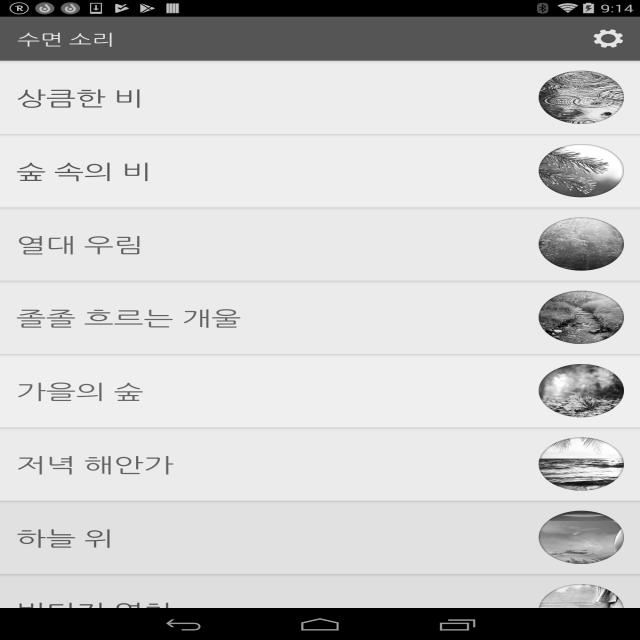ImageButton: (584, 22, 630, 52)
ImageView: (525, 214, 629, 274), (536, 144, 624, 201), (525, 294, 624, 343), (534, 70, 614, 130), (526, 510, 622, 559), (541, 369, 624, 422), (533, 437, 617, 488)
TextView: (14, 298, 260, 337), (11, 448, 172, 482), (11, 520, 144, 556), (11, 228, 151, 262), (17, 83, 145, 116), (13, 378, 154, 406), (18, 26, 116, 51)
